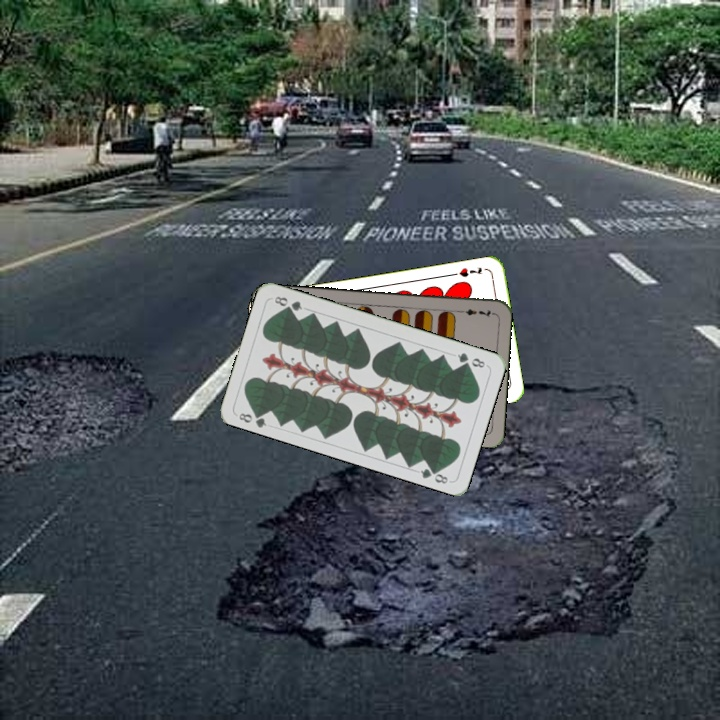E7: (455, 305, 495, 320)
G8: (235, 406, 269, 430), (453, 348, 488, 370)
H7: (448, 263, 485, 280)
